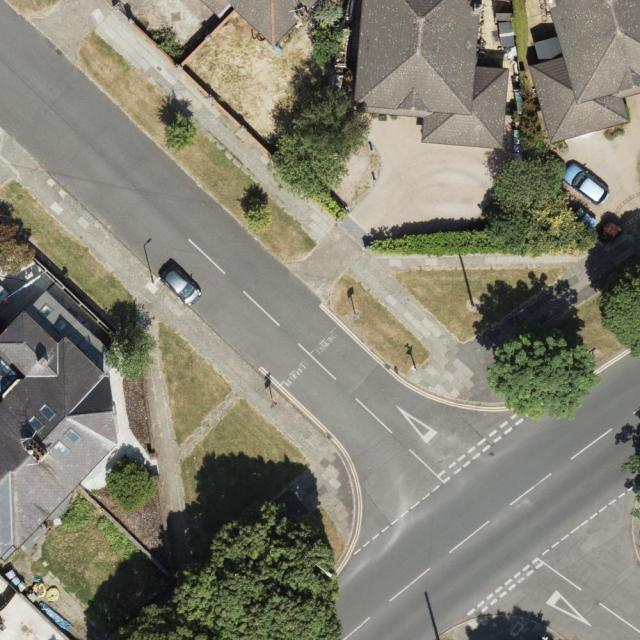roof: (0, 288, 118, 569), (354, 0, 508, 150), (528, 0, 640, 146), (202, 0, 319, 46)
skylight: (0, 357, 20, 397), (61, 427, 83, 447), (51, 441, 72, 459), (39, 404, 58, 422), (26, 414, 44, 432), (51, 317, 68, 336), (39, 304, 55, 319), (77, 335, 91, 351)
